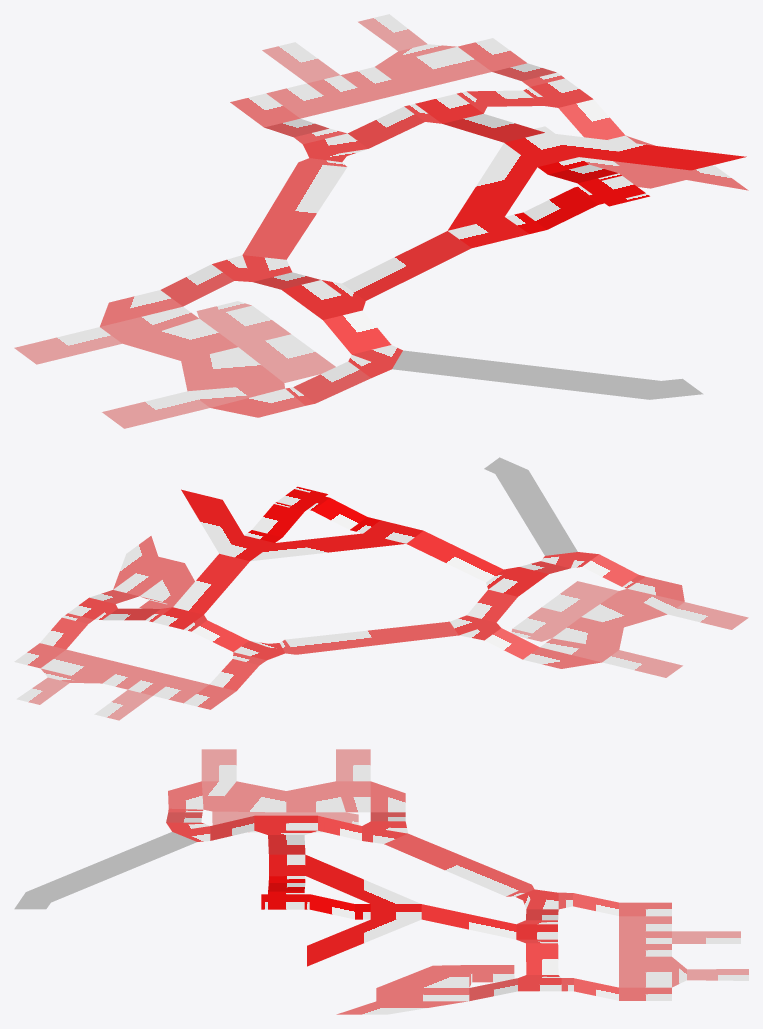
File: Navi_0.FBX
3 renders of one model, top to bottom at view 1: azimuth 30°, elevation 25°; view 2: azimuth 150°, elevation 25°; view 3: azimuth 270°, elevation 25°, orthographic. The views are drawn at different scales.
Visible parts, largest first — view 1: Plane001; view 2: Plane001; view 3: Plane001.
Boxes of the visible parts, x1,y1,x2,y2 form: Plane001: (14, 14, 748, 428); Plane001: (14, 457, 748, 720); Plane001: (14, 749, 748, 1014).
Bounding box in the file's own units: 7215 × 639 × 8435.
